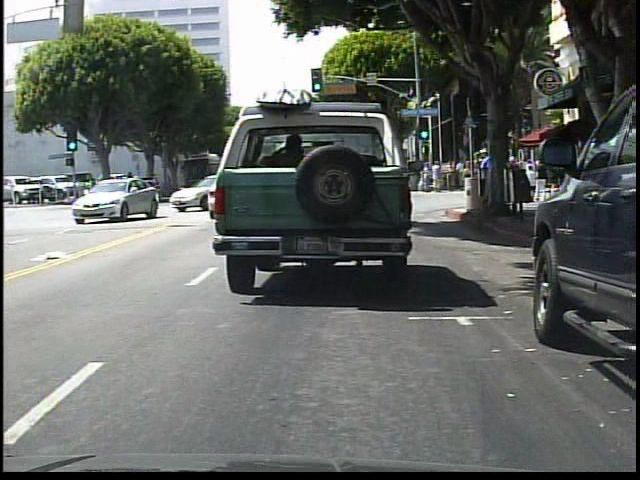person: (507, 153, 525, 221), (477, 148, 493, 207), (524, 164, 542, 206), (534, 157, 549, 204), (433, 160, 443, 193), (447, 160, 457, 192), (421, 162, 431, 193)
